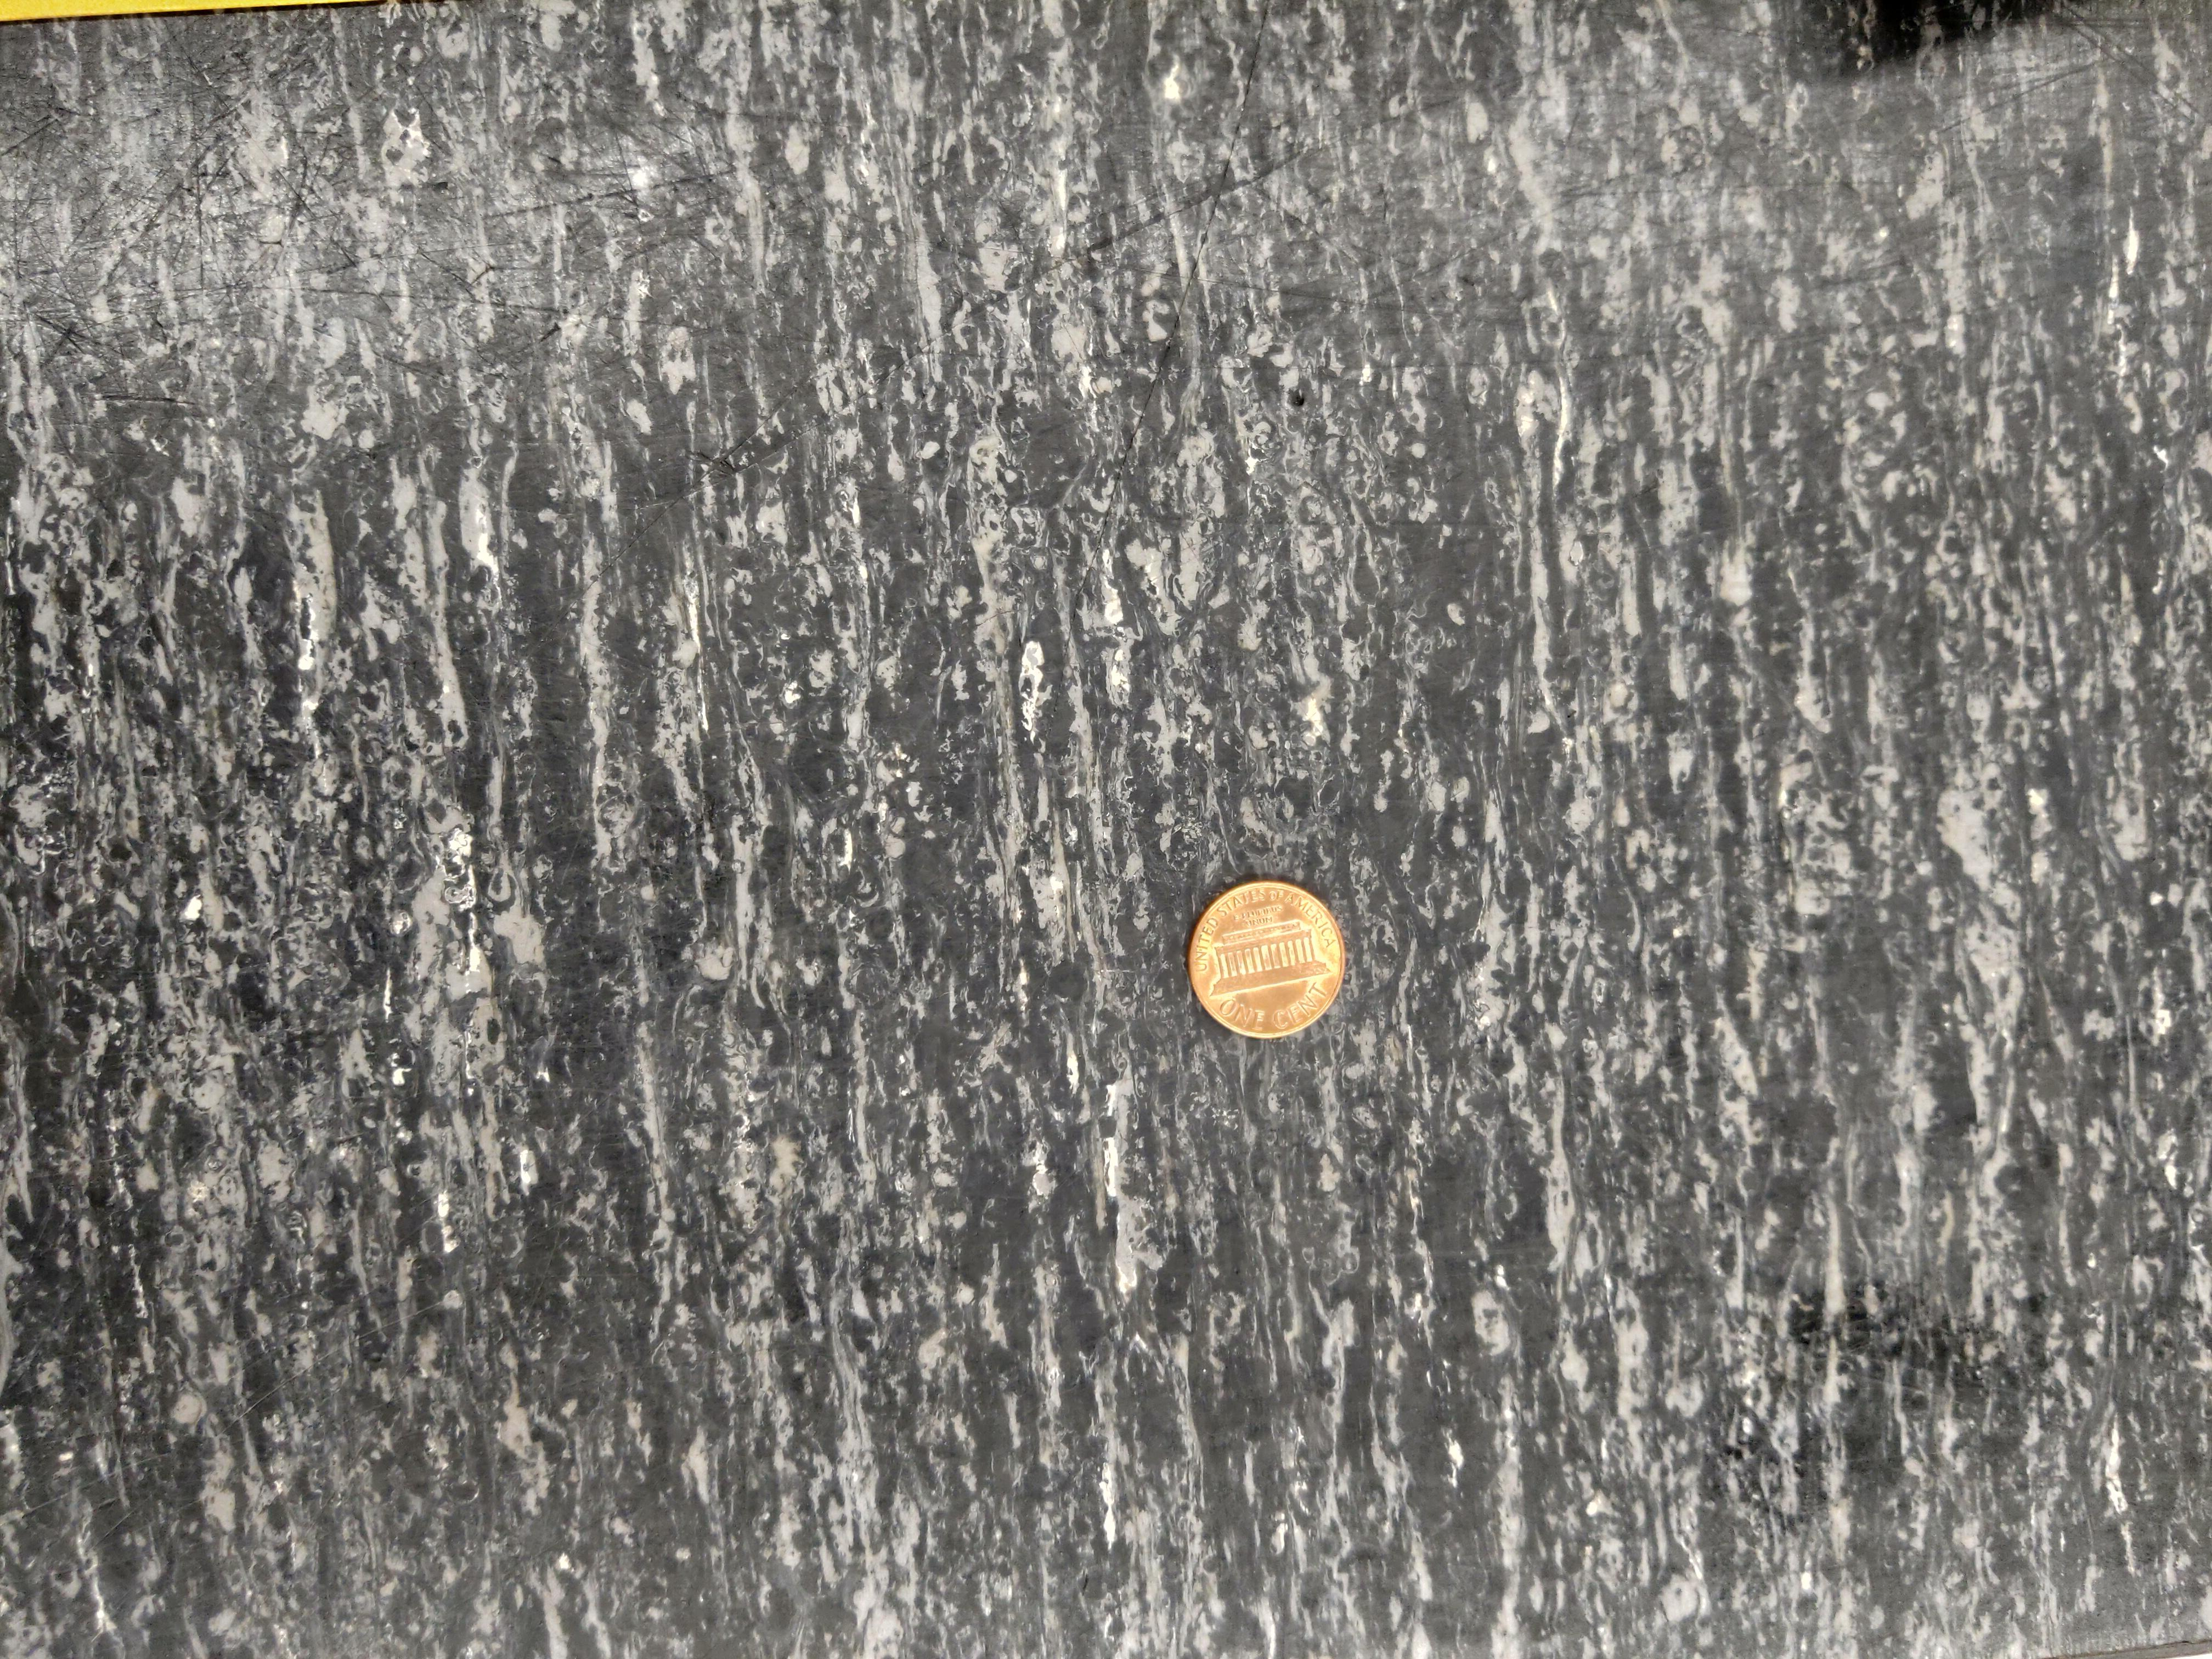Penny: (1183, 878, 1348, 1039)
